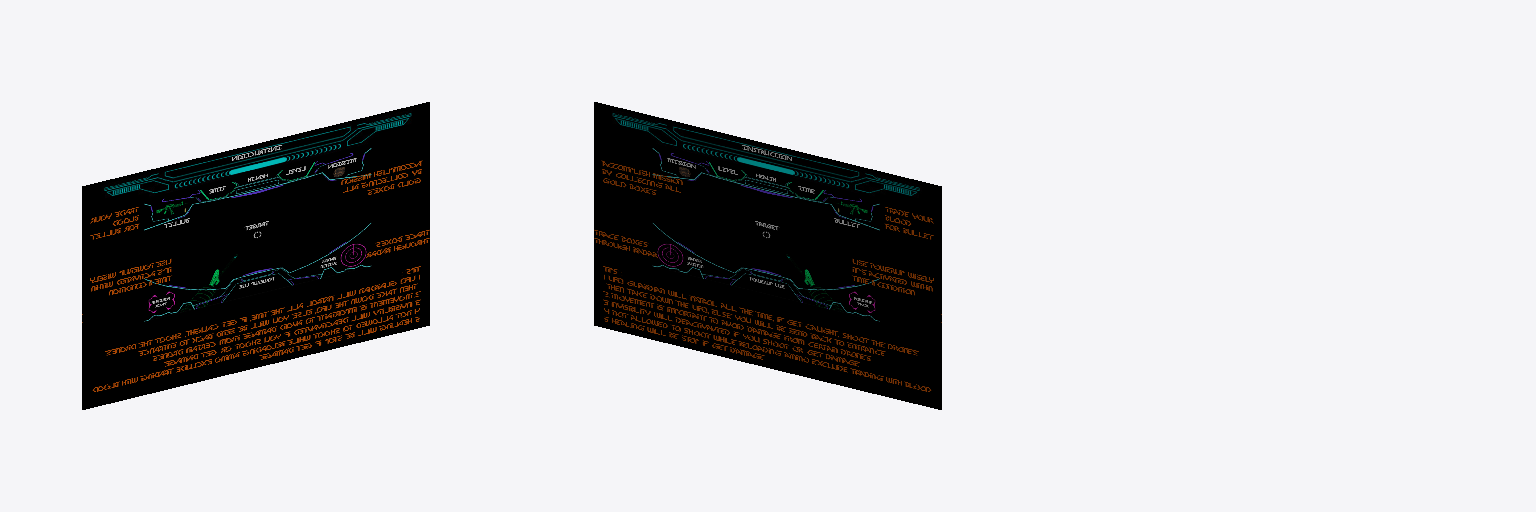
3 renders of one model, left to right at view 1: azimuth 30°, elevation 25°; view 2: azimuth 150°, elevation 25°; view 3: azimuth 270°, elevation 25°, orthographic.
Visible parts, largest first — view 1: Plane; view 2: Plane; view 3: none.
Boxes of the visible parts, <box> form: Plane: <box>82,102,429,409</box>; Plane: <box>594,102,941,409</box>.
Bounding box in the file's own units: 3.58 × 2.21 × 0.
1 materials, 1 textured.